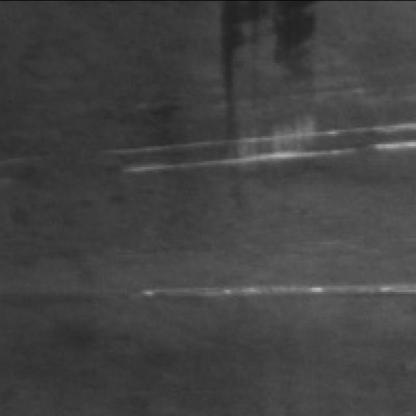inclusion: (223, 4, 320, 179)
scratches: (112, 119, 416, 181), (143, 274, 416, 307)
